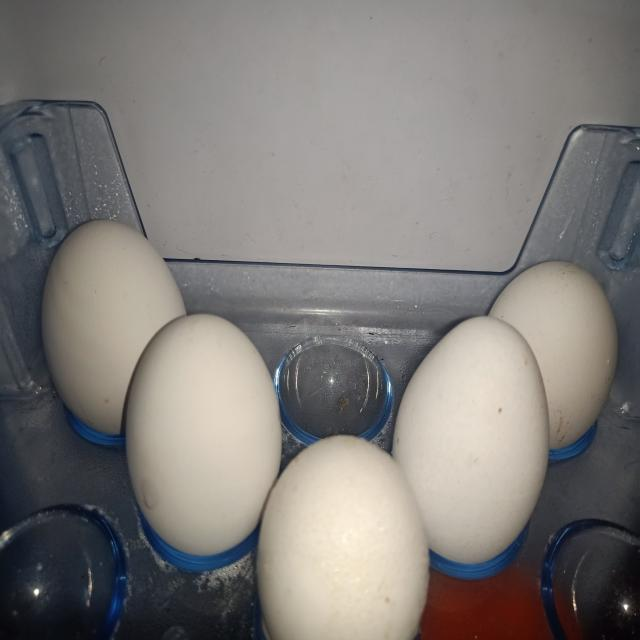Egg: (393, 316, 550, 564), (125, 314, 282, 557), (257, 436, 429, 640), (41, 220, 185, 435), (489, 261, 619, 449)
